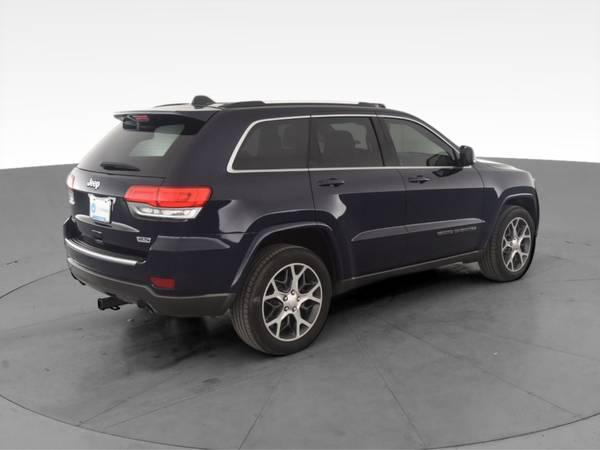Front_Fender: (474, 161, 539, 249)
Front_Right_Door: (400, 163, 488, 267)
Front_Right_Window: (376, 117, 470, 168)
Rear_Bumper: (62, 218, 262, 315)
Rear_Fender: (161, 117, 318, 236)
Rear_Right_Door: (308, 166, 422, 293)
Rear_Right_Window: (308, 116, 396, 172)
Rear_Windshield: (74, 114, 202, 176)
Right_Taillight: (122, 187, 210, 222)
Roof: (111, 101, 468, 175)
Tailgate: (64, 169, 164, 257)
Wheel: (233, 239, 335, 353), (478, 204, 536, 281)
